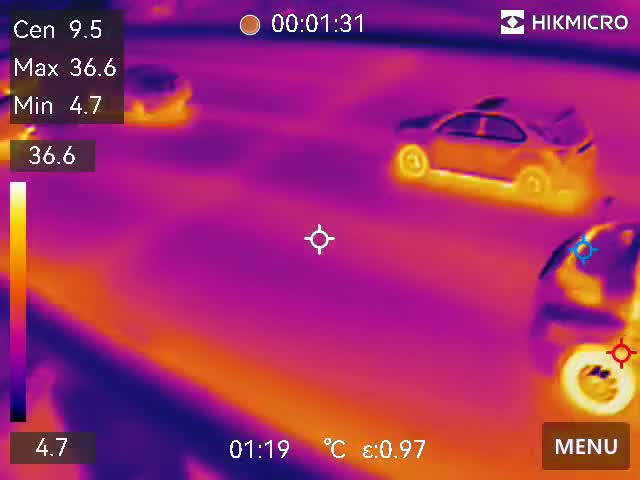largeCar: (396, 91, 595, 219)
